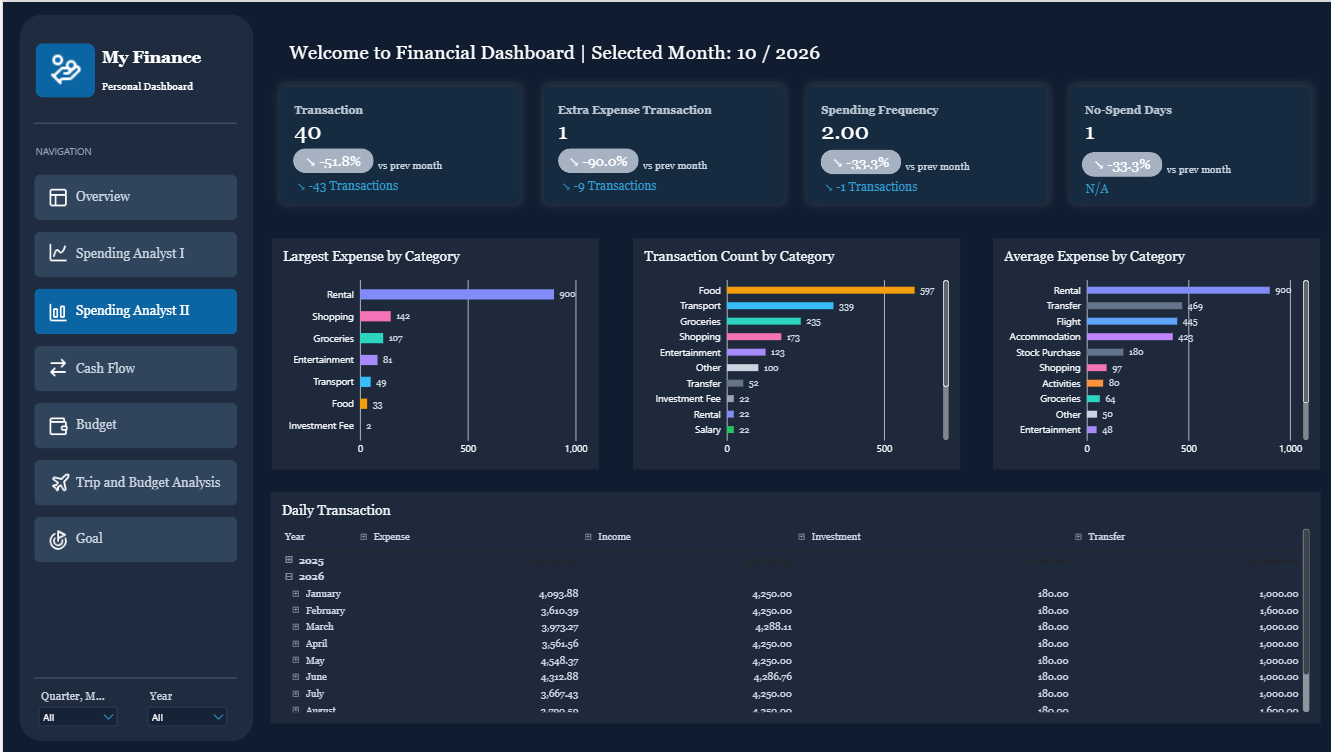

This screenshot's page, from the dashboard's own definition file:
{"tool":"powerbi","page":{"name":"Spending Analyst II","canvas":[1920,1080],"ordinal":3},"visuals":[{"type":"shape","box":[22.9,17.1,337.1,1045.7],"z":0,"group":"g6"},{"type":"shape","box":[47,58,85.5,78.2],"z":0,"group":"g7"},{"type":"pivotTable","title":"Daily Transaction","fields":{"Columns":["Transaction.Type","Categories.Category"],"Rows":["DateTable.Date.Variation.Date Hierarchy.Year","DateTable.Date.Variation.Date Hierarchy.Month","DateTable.Date.Variation.Date Hierarchy.Day","Transaction.Category","Transaction.Detail"],"Values":["Sum(Transaction.Amount)"]},"box":[385,705,1510,332.5],"z":0},{"type":"group","id":"g1","title":"Group 4","box":[384.3,25,1510,278.1],"z":1000},{"type":"image","box":[65.3,73,50.8,46.7],"z":1000,"group":"g7"},{"type":"cardVisual","fields":{"Data":["DAX CP.C Number of Transaction","DAX CP.C Number of Extra Expense Transaction","DAX CP.C Spending Frequency","DAX CP.C No Spend Days"]},"box":[384.3,108.1,1510,195],"z":1000,"group":"g1"},{"type":"cardVisual","fields":{"Data":["DynamicText.Text Transaction Count Number Compare"]},"box":[422,246.4,207.1,32.8],"z":1000,"group":"g5"},{"type":"cardVisual","fields":{"Data":["DynamicText.Text Extra Expense Transaction Count Number Compare"]},"box":[802.7,246.8,207.1,32.8],"z":1000,"group":"g2"},{"type":"cardVisual","fields":{"Data":["DynamicText.Text Spending Frequency Number Compare"]},"box":[1180.7,247.8,207.1,32.8],"z":1000,"group":"g3"},{"type":"cardVisual","fields":{"Data":["DynamicText.Text No Spend Days Number Compare"]},"box":[1555.6,251.1,207.1,32.8],"z":1000,"group":"g4"},{"type":"slicer","fields":{"Values":["DateTable.Quarter","DateTable.Month"]},"box":[45.8,987.6,122.5,62.8],"z":1000,"group":"g6"},{"type":"cardVisual","fields":{"Data":["DynamicText.Text Selected Month"]},"box":[395.7,25,813.3,95],"z":2000,"group":"g1"},{"type":"textbox","box":[142.5,63.1,188.6,70],"z":2000,"group":"g7"},{"type":"shape","box":[417.3,210.6,116.3,35.8],"z":2000,"group":"g5"},{"type":"shape","box":[798,211,116.3,35.8],"z":2000,"group":"g2"},{"type":"shape","box":[1176,212,116.3,35.8],"z":2000,"group":"g3"},{"type":"shape","box":[1550.9,215.3,116.3,35.8],"z":2000,"group":"g4"},{"type":"clusteredBarChart","title":"Largest Expense by Category","fields":{"Category":["Categories.Category"],"Y":["DAX CP.C Largest Expense by Category"]},"box":[385.7,340,470,333],"z":2000},{"type":"slicer","fields":{"Values":["DateTable.Year"]},"box":[202,987.6,124.4,62.8],"z":2000,"group":"g6"},{"type":"group","id":"g2","title":"Group 1","box":[798,211,230,69],"z":3000},{"type":"pageNavigator","box":[44.2,246.9,292.2,558.9],"z":3000,"group":"g6"},{"type":"cardVisual","fields":{"Data":["DynamicText.Text Transaction Count Compare"]},"box":[417.3,211.7,116.3,27.4],"z":4000,"group":"g5"},{"type":"group","id":"g3","title":"Group 1","box":[1176,212,230,69],"z":4000},{"type":"cardVisual","fields":{"Data":["DynamicText.Text Extra Expense Transaction Count Compare"]},"box":[798,212.1,116.3,27.4],"z":4000,"group":"g2"},{"type":"cardVisual","fields":{"Data":["DynamicText.Text Spending Frequency Compare"]},"box":[1176,213.1,116.3,27.4],"z":4000,"group":"g3"},{"type":"cardVisual","fields":{"Data":["DynamicText.Text Spending Frequency Compare"]},"box":[1550.9,216.4,116.3,27.4],"z":4000,"group":"g4"},{"type":"image","box":[62.8,265,32.7,30],"z":4000,"group":"g6"},{"type":"group","id":"g4","title":"Group 1","box":[1550.9,215.3,229.8,68.8],"z":5000},{"type":"image","box":[65.6,674.4,32.5,30],"z":5000,"group":"g6"},{"type":"shape","box":[45,164,291,18],"z":6000,"group":"g6"},{"type":"clusteredBarChart","title":"Average Expense by Category","fields":{"Category":["Categories.Category"],"Y":["Dax Normal.Avg Expense by Transaction Count"]},"box":[1424.3,340,470,333],"z":6000},{"type":"group","id":"g5","title":"Group 1","box":[417.3,210.6,230,68.9],"z":7000,"group":"g1"},{"type":"clusteredBarChart","title":"Transaction Count by Category","fields":{"Category":["Categories.Category"],"Y":["Dax Normal.Transaction Count"]},"box":[905.7,340,470,332.9],"z":7000},{"type":"image","box":[62.8,758.1,32.5,30],"z":7000,"group":"g6"},{"type":"group","id":"g6","title":"Group 3","box":[22.9,17.1,337.1,1045.7],"z":8000},{"type":"textbox","box":[45.8,204.3,99.3,21.8],"z":8000,"group":"g6"},{"type":"shape","box":[45,963,291,17],"z":9000,"group":"g6"},{"type":"group","id":"g7","title":"Group 2","box":[47,58,284,78],"z":10000,"group":"g6"},{"type":"image","box":[62.8,345,32.7,30],"z":11000,"group":"g6"},{"type":"image","box":[62.8,430,32.5,30],"z":12000,"group":"g6"},{"type":"image","box":[62.4,510,32.5,30],"z":13000,"group":"g6"},{"type":"image","box":[62.8,593.6,32.7,30],"z":14000,"group":"g6"},{"type":"textbox","box":[539.4,225.3,107.4,21.1],"z":18000,"group":"g5"},{"type":"textbox","box":[920.1,225.7,107.4,21.1],"z":18000,"group":"g2"},{"type":"textbox","box":[1298.1,226.7,107.4,21.1],"z":18000,"group":"g3"},{"type":"textbox","box":[1673,230,107.4,21.1],"z":18000,"group":"g4"}]}

Visuals, with their boxes on the page's 1920x1080 design canvas (x1, y1, x2, y2). These are canvas units, not pixel positions in the 1331x752 screenshot, which may show the page scaled, cropped or inside an application window:
shape: Rect(23, 17, 360, 1063)
shape: Rect(47, 58, 132, 136)
"Daily Transaction" pivotTable: Rect(385, 705, 1895, 1038)
"Group 4" group: Rect(384, 25, 1894, 303)
image: Rect(65, 73, 116, 120)
cardVisual - DAX CP.C Number of Transaction x DAX CP.C Number of Extra Expense Transaction: Rect(384, 108, 1894, 303)
cardVisual - DynamicText.Text Transaction Count Number Compare: Rect(422, 246, 629, 279)
cardVisual - DynamicText.Text Extra Expense Transaction Count Number Compare: Rect(803, 247, 1010, 280)
cardVisual - DynamicText.Text Spending Frequency Number Compare: Rect(1181, 248, 1388, 281)
cardVisual - DynamicText.Text No Spend Days Number Compare: Rect(1556, 251, 1763, 284)
slicer - DateTable.Quarter x DateTable.Month: Rect(46, 988, 168, 1050)
cardVisual - DynamicText.Text Selected Month: Rect(396, 25, 1209, 120)
textbox: Rect(142, 63, 331, 133)
shape: Rect(417, 211, 534, 246)
shape: Rect(798, 211, 914, 247)
shape: Rect(1176, 212, 1292, 248)
shape: Rect(1551, 215, 1667, 251)
"Largest Expense by Category" clusteredBarChart: Rect(386, 340, 856, 673)
slicer - DateTable.Year: Rect(202, 988, 326, 1050)
"Group 1" group: Rect(798, 211, 1028, 280)
pageNavigator: Rect(44, 247, 336, 806)
cardVisual - DynamicText.Text Transaction Count Compare: Rect(417, 212, 534, 239)
"Group 1" group: Rect(1176, 212, 1406, 281)
cardVisual - DynamicText.Text Extra Expense Transaction Count Compare: Rect(798, 212, 914, 240)
cardVisual - DynamicText.Text Spending Frequency Compare: Rect(1176, 213, 1292, 240)
cardVisual - DynamicText.Text Spending Frequency Compare: Rect(1551, 216, 1667, 244)
image: Rect(63, 265, 96, 295)
"Group 1" group: Rect(1551, 215, 1781, 284)
image: Rect(66, 674, 98, 704)
shape: Rect(45, 164, 336, 182)
"Average Expense by Category" clusteredBarChart: Rect(1424, 340, 1894, 673)
"Group 1" group: Rect(417, 211, 647, 280)
"Transaction Count by Category" clusteredBarChart: Rect(906, 340, 1376, 673)
image: Rect(63, 758, 95, 788)
"Group 3" group: Rect(23, 17, 360, 1063)
textbox: Rect(46, 204, 145, 226)
shape: Rect(45, 963, 336, 980)
"Group 2" group: Rect(47, 58, 331, 136)
image: Rect(63, 345, 96, 375)
image: Rect(63, 430, 95, 460)
image: Rect(62, 510, 95, 540)
image: Rect(63, 594, 96, 624)
textbox: Rect(539, 225, 647, 246)
textbox: Rect(920, 226, 1028, 247)
textbox: Rect(1298, 227, 1406, 248)
textbox: Rect(1673, 230, 1780, 251)
